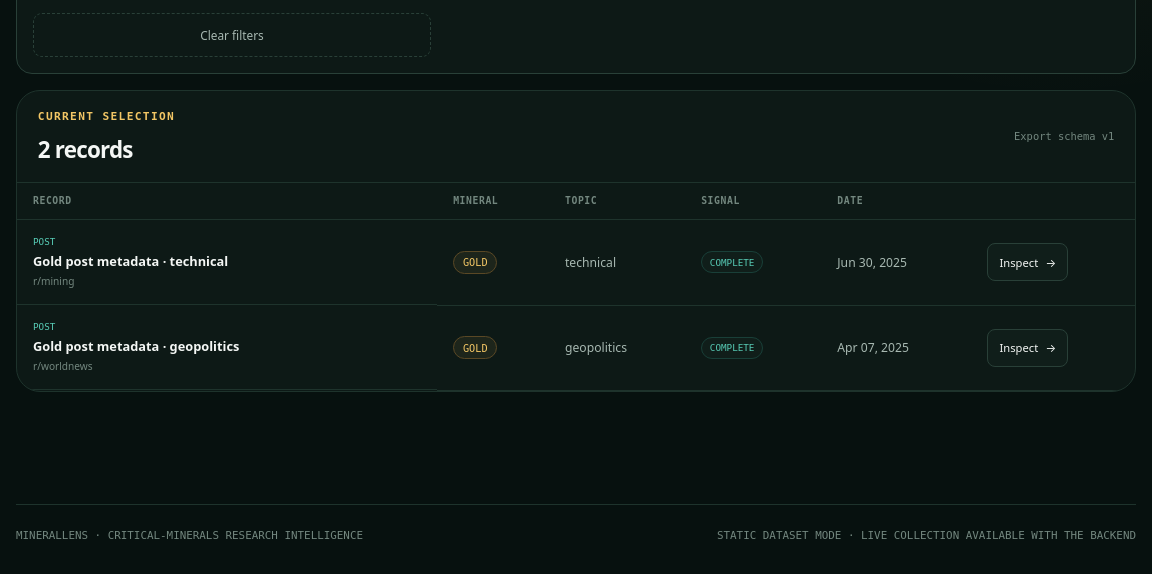
Test: MineralLens application › uses URL-backed explorer filters and opens an analysis detail panel
(page scrolled)
expect the heading "2 records" is shown: met, box top-left (38, 134), bottom-right (133, 165)
Click the button named "inspect gold post metadata" at (1028, 262), box top-left (987, 243), bottom-right (1068, 281)
(page scrolled)
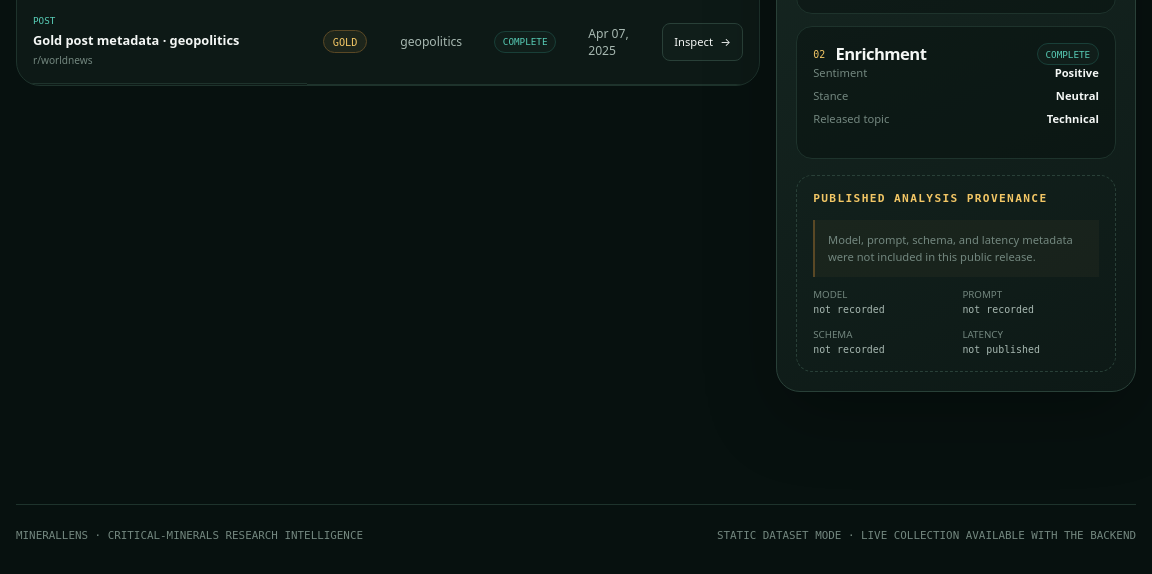
expect the text "Published analysis provenance" is shown: met, box top-left (813, 192), bottom-right (1048, 205)
expect the text "Model, prompt, schema, and latency metadata were not included" is shown: met, box top-left (828, 232), bottom-right (1073, 264)
